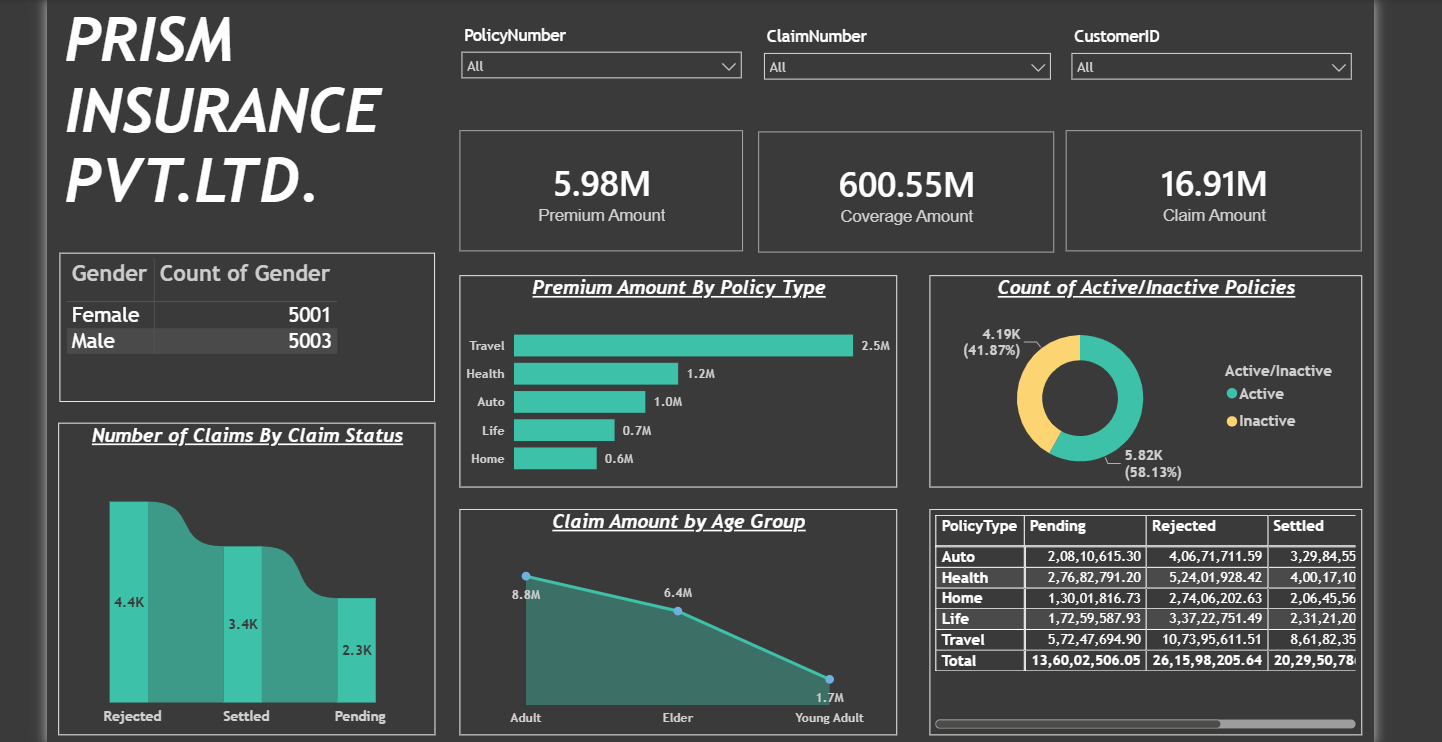

What the dashboard file says about the page in this screenshot:
{"tool":"powerbi","page":{"name":"Insurance Data Analysis Dashboard","canvas":[1280,720],"ordinal":0},"visuals":[{"type":"slicer","fields":{"Values":["InsuranceData.PolicyNumber"]},"box":[390,20,290.9,94.7],"z":0},{"type":"slicer","fields":{"Values":["InsuranceData.ClaimNumber"]},"box":[681.2,21.2,297.5,93.8],"z":1000},{"type":"slicer","fields":{"Values":["InsuranceData.CustomerID"]},"box":[978.8,21.2,290.9,94.7],"z":2000},{"type":"textbox","box":[12.5,0,362.5,230],"z":3000},{"type":"cardVisual","fields":{"Data":["Sum(InsuranceData.PremiumAmount)"]},"box":[398.1,126.7,273.9,117],"z":4000},{"type":"cardVisual","fields":{"Data":["Sum(InsuranceData.CoverageAmount)"]},"box":[686.5,127.9,285.9,117],"z":5000},{"type":"cardVisual","fields":{"Data":["Sum(InsuranceData.ClaimAmount)"]},"box":[983.2,126.7,285.9,117],"z":6000},{"type":"tableEx","fields":{"Values":["InsuranceData.Gender","CountNonNull(InsuranceData.Gender)"]},"box":[12.5,245,362.5,143.8],"z":7000},{"type":"ribbonChart","title":"Number of Claims By Claim Status","fields":{"Category":["InsuranceData.ClaimStatus"],"Y":["CountNonNull(InsuranceData.ClaimStatus)"]},"box":[11.2,408.8,363.8,301.2],"z":8000},{"type":"barChart","title":"Premium Amount By Policy Type","fields":{"Category":["InsuranceData.PolicyType"],"Y":["Sum(InsuranceData.PremiumAmount)"]},"box":[398.1,266.6,422.3,205.1],"z":9000},{"type":"lineChart","title":"Claim Amount by Age Group","fields":{"Category":["InsuranceData.Age Groups"],"Y":["Sum(InsuranceData.ClaimAmount)"]},"box":[398.1,492.2,422.3,218.4],"z":10000},{"type":"donutChart","title":"Count of Active/Inactive Policies","fields":{"Category":["InsuranceData.Active/Inactive"],"Y":["CountNonNull(InsuranceData.Active/Inactive)"]},"box":[851.7,266.6,417.4,205.1],"z":11000},{"type":"pivotTable","fields":{"Values":["Sum(InsuranceData.CoverageAmount)"],"Rows":["InsuranceData.PolicyType"],"Columns":["InsuranceData.ClaimStatus"]},"box":[851.7,492.2,417.4,218.4],"z":12000}]}

Visuals, with their boxes on the page's 1280x720 design canvas (x1, y1, x2, y2). These are canvas units, not pixel positions in the 1442x742 screenshot, which may show the page scaled, cropped or inside an application window:
slicer - InsuranceData.PolicyNumber: {"x1": 390, "y1": 20, "x2": 681, "y2": 115}
slicer - InsuranceData.ClaimNumber: {"x1": 681, "y1": 21, "x2": 979, "y2": 115}
slicer - InsuranceData.CustomerID: {"x1": 979, "y1": 21, "x2": 1270, "y2": 116}
textbox: {"x1": 12, "y1": 0, "x2": 375, "y2": 230}
cardVisual - Sum(InsuranceData.PremiumAmount): {"x1": 398, "y1": 127, "x2": 672, "y2": 244}
cardVisual - Sum(InsuranceData.CoverageAmount): {"x1": 686, "y1": 128, "x2": 972, "y2": 245}
cardVisual - Sum(InsuranceData.ClaimAmount): {"x1": 983, "y1": 127, "x2": 1269, "y2": 244}
tableEx - InsuranceData.Gender x CountNonNull(InsuranceData.Gender): {"x1": 12, "y1": 245, "x2": 375, "y2": 389}
"Number of Claims By Claim Status" ribbonChart: {"x1": 11, "y1": 409, "x2": 375, "y2": 710}
"Premium Amount By Policy Type" barChart: {"x1": 398, "y1": 267, "x2": 820, "y2": 472}
"Claim Amount by Age Group" lineChart: {"x1": 398, "y1": 492, "x2": 820, "y2": 711}
"Count of Active/Inactive Policies" donutChart: {"x1": 852, "y1": 267, "x2": 1269, "y2": 472}
pivotTable - Sum(InsuranceData.CoverageAmount) x InsuranceData.PolicyType: {"x1": 852, "y1": 492, "x2": 1269, "y2": 711}
